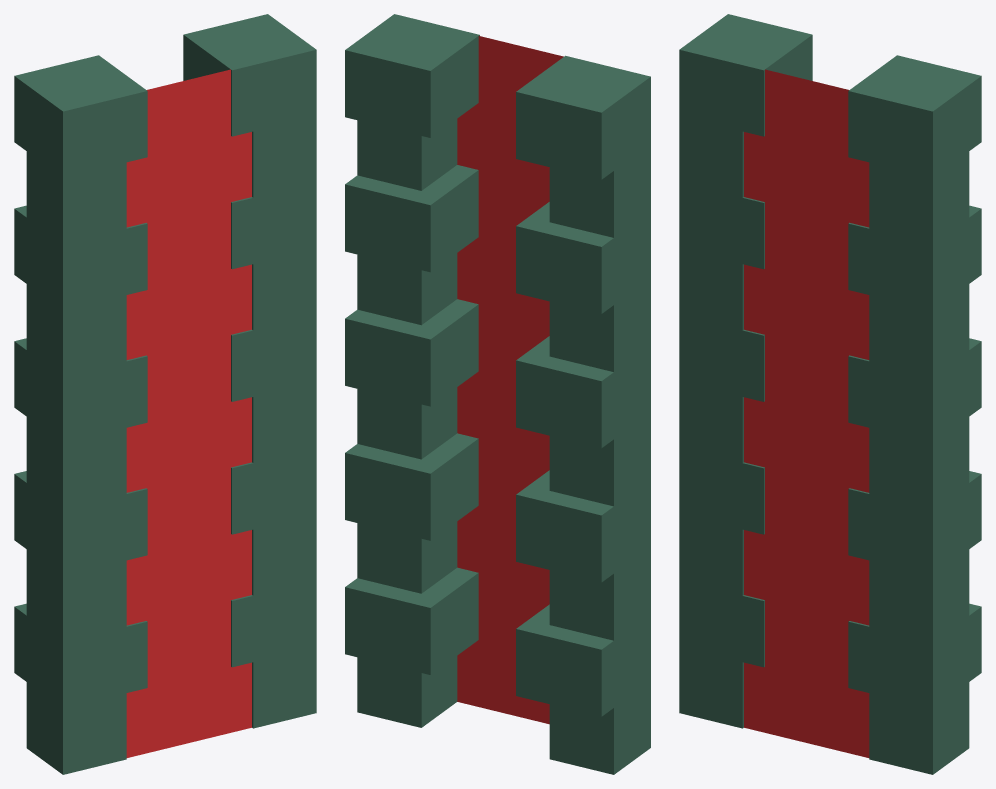
The model's file is new building_sid.fbx.
3 views of the same model, side by side, from view 1: azimuth 30°, elevation 25°; view 2: azimuth 150°, elevation 25°; view 3: azimuth 330°, elevation 25° (orthographic).
Visible parts, largest first — view 1: Cube.001, Cube.010, Cube.006, Cube.004, Cube.002, Cube.008, Cube.003, Cube.009, Cube, Cube.007, Cube.005; view 2: Cube.001, Cube.010, Cube.006, Cube.002, Cube.008, Cube.004, Cube.003, Cube.009, Cube, Cube.007, Cube.005; view 3: Cube.001, Cube.010, Cube.006, Cube.004, Cube.002, Cube.008, Cube.003, Cube.009, Cube, Cube.007, Cube.005.
Boxes of the visible parts, left/top/right/bottom form: Cube.001: left=126, top=69, right=251, bottom=757; Cube.010: left=14, top=14, right=316, bottom=177; Cube.006: left=14, top=315, right=316, bottom=443; Cube.004: left=14, top=448, right=316, bottom=575; Cube.002: left=14, top=580, right=316, bottom=708; Cube.008: left=14, top=182, right=316, bottom=310; Cube.003: left=26, top=514, right=316, bottom=642; Cube.009: left=26, top=116, right=316, bottom=244; Cube: left=26, top=647, right=316, bottom=774; Cube.007: left=26, top=249, right=316, bottom=376; Cube.005: left=26, top=381, right=316, bottom=509; Cube.001: left=457, top=36, right=563, bottom=724; Cube.010: left=345, top=14, right=650, bottom=179; Cube.006: left=345, top=299, right=650, bottom=448; Cube.002: left=345, top=567, right=650, bottom=716; Cube.008: left=345, top=165, right=650, bottom=313; Cube.004: left=345, top=433, right=650, bottom=582; Cube.003: left=357, top=521, right=650, bottom=640; Cube.009: left=357, top=119, right=650, bottom=237; Cube: left=357, top=656, right=650, bottom=774; Cube.007: left=357, top=253, right=650, bottom=371; Cube.005: left=357, top=387, right=650, bottom=506; Cube.001: left=744, top=69, right=869, bottom=757; Cube.010: left=679, top=14, right=981, bottom=177; Cube.006: left=679, top=315, right=981, bottom=443; Cube.004: left=679, top=448, right=981, bottom=575; Cube.002: left=679, top=580, right=981, bottom=708; Cube.008: left=679, top=182, right=981, bottom=310; Cube.003: left=679, top=514, right=969, bottom=642; Cube.009: left=679, top=116, right=969, bottom=244; Cube: left=679, top=647, right=969, bottom=774; Cube.007: left=679, top=249, right=969, bottom=376; Cube.005: left=679, top=381, right=969, bottom=509.
Bounding box in the file's own units: 120 × 300 × 40.
